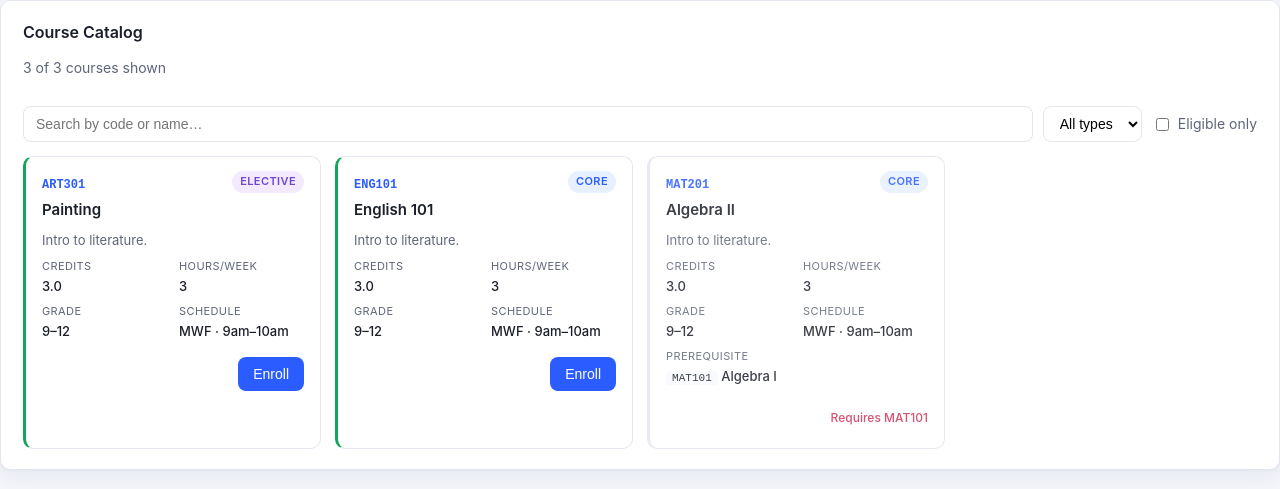
CourseBrowser › hides ineligible courses when "Eligible only" is toggled on
Expected: the text "MAT201" is shown, x1=666 y1=178 x2=709 y2=192
Click the checkbox labelled "Eligible only". click: click(1162, 124)
box: x1=1156 y1=118 x2=1169 y2=131
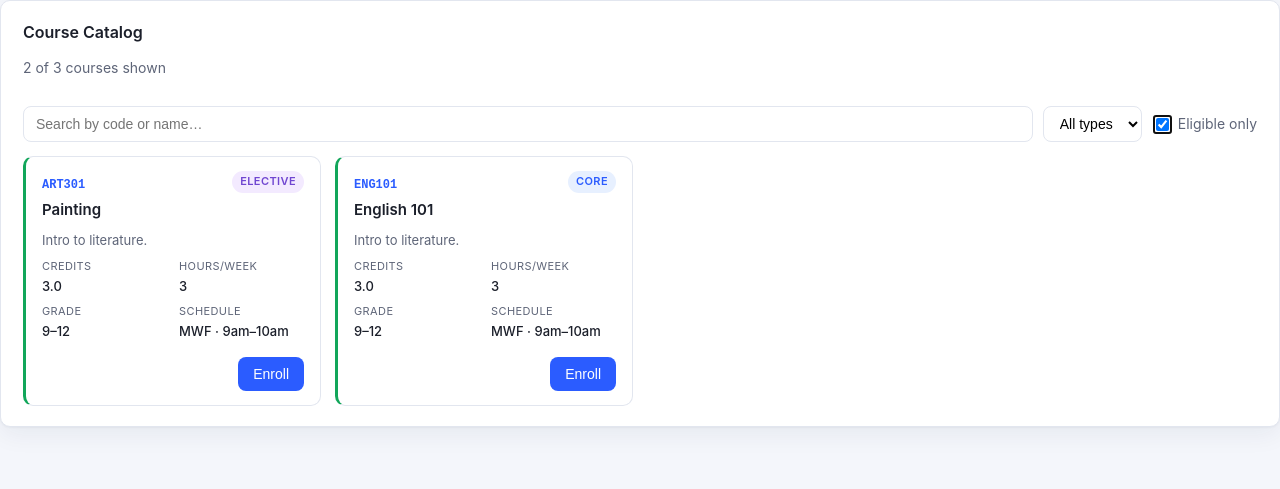
Expected: the text "ENG101" is shown, x1=354 y1=178 x2=397 y2=192
Expected: the text "MAT201" is gone
